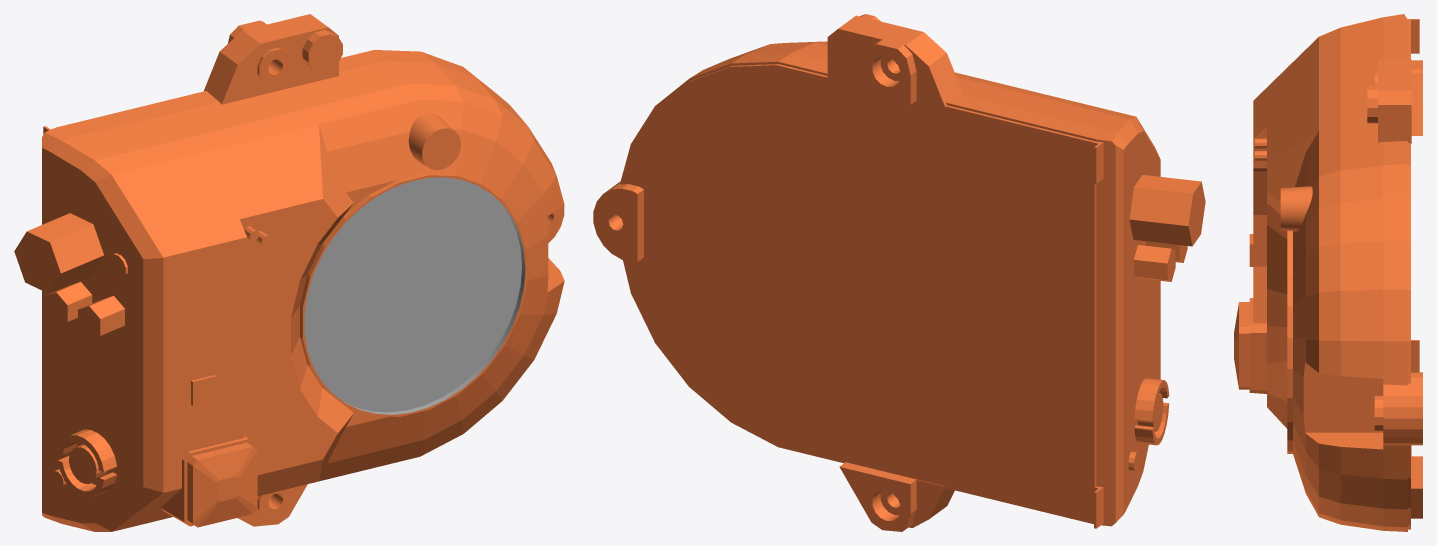
File: irb140_base_link.obj
3 renders of one model, left to right at view 1: azimuth 30°, elevation 25°; view 2: azimuth 150°, elevation 25°; view 3: azimuth 270°, elevation 25°, orthographic. The views are drawn at different scales.
Visible parts, largest first — view 1: Solid1; view 2: Solid1; view 3: Solid1.
Part boxes in pixels (bbox=[...]): Solid1: bbox=[14, 14, 564, 531]; Solid1: bbox=[593, 14, 1205, 531]; Solid1: bbox=[1234, 14, 1422, 531].
Bounding box in the file's own units: 488 × 402 × 152.
